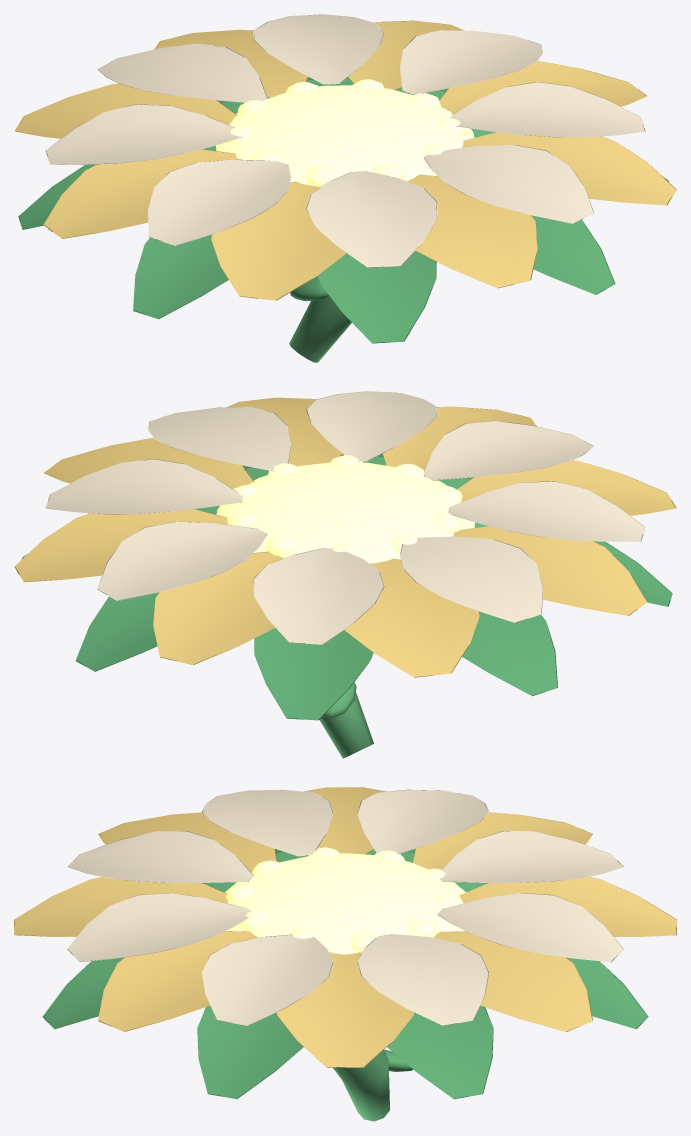
File: lily_pad_cap.glb
3 renders of one model, top to bottom at view 1: azimuth 30°, elevation 25°; view 2: azimuth 150°, elevation 25°; view 3: azimuth 270°, elevation 25°, orthographic.
Visible parts, largest first — view 1: InnerPetal0, OuterPetal0, CalyxLeaf0, PollenDome, BotanicalStem; view 2: InnerPetal0, OuterPetal0, CalyxLeaf0, PollenDome, BotanicalStem; view 3: InnerPetal0, OuterPetal0, CalyxLeaf0, PollenDome, BotanicalStem.
Boxes of the visible parts, x1,y1,x2,y2 form: InnerPetal0: (45,14,645,267); OuterPetal0: (14,20,676,300); CalyxLeaf0: (18,77,668,343); PollenDome: (216,79,474,186); BotanicalStem: (202,78,496,362); InnerPetal0: (45,391,645,644); OuterPetal0: (14,397,676,677); CalyxLeaf0: (22,453,672,720); PollenDome: (216,455,474,563); BotanicalStem: (194,455,487,758); InnerPetal0: (67,789,623,1025); OuterPetal0: (14,787,676,1067); CalyxLeaf0: (42,849,648,1099); PollenDome: (225,847,465,954); BotanicalStem: (203,849,487,1121).
Bounding box in the file's own units: 4.68 × 1.91 × 4.68.
